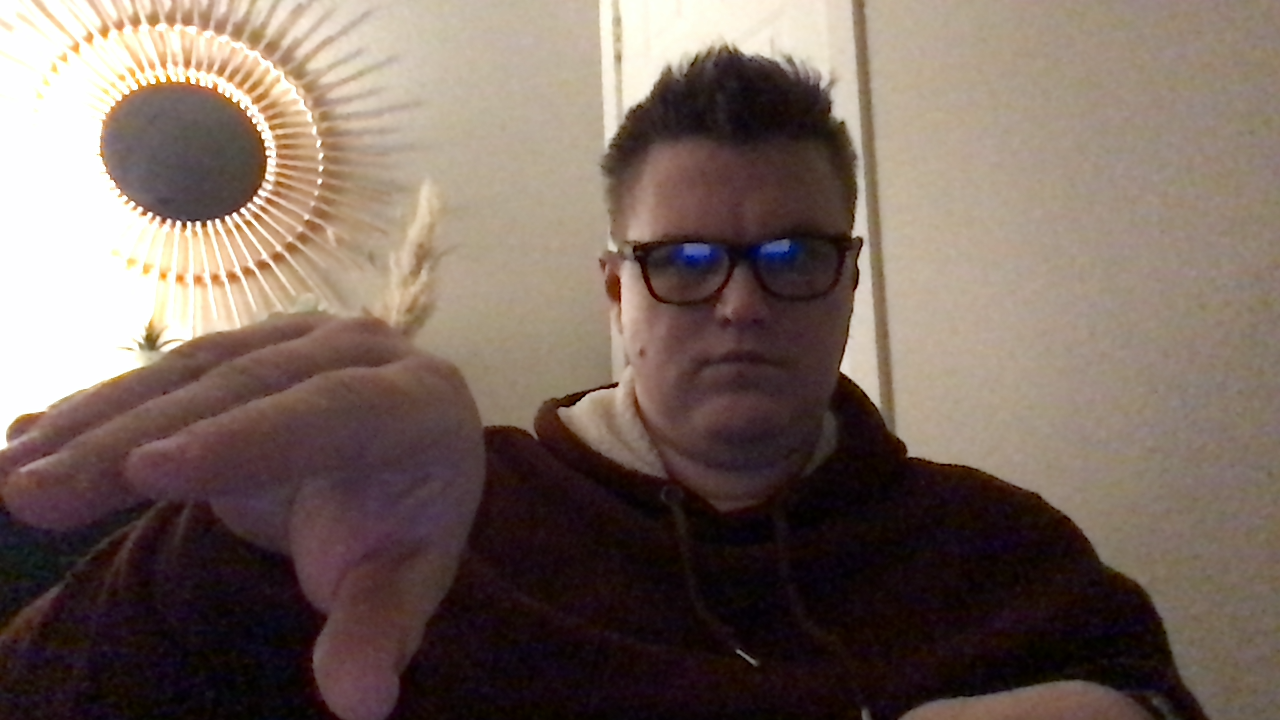no: (1, 309, 487, 716)
